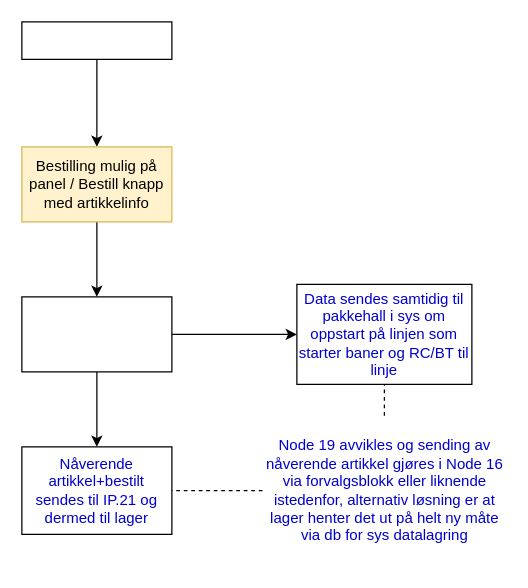
The diagram is 528 pixels wide and 588 high, and some of its shapes have lost their labels. Here are the shapes that lost their labels. From the top down, the centre of each, then its label:
At point 96,40: "Forvalgsliste WinCC <ferdig>".
At point 96,334: "Ved bestilling gis informasjon til prosess".
